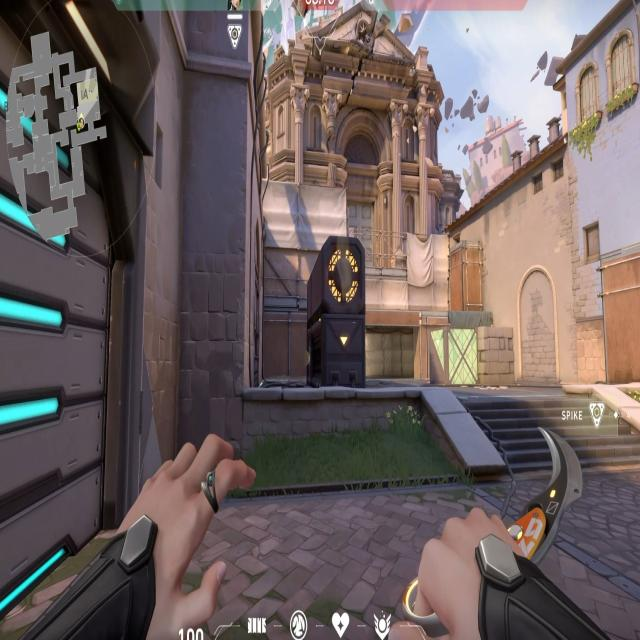A_Heaven_Box: (442, 231, 488, 317)
A_Heaven_Wall: (269, 161, 358, 285)
A_Hell: (368, 300, 424, 384)
A_Site_Box: (424, 315, 517, 389)
